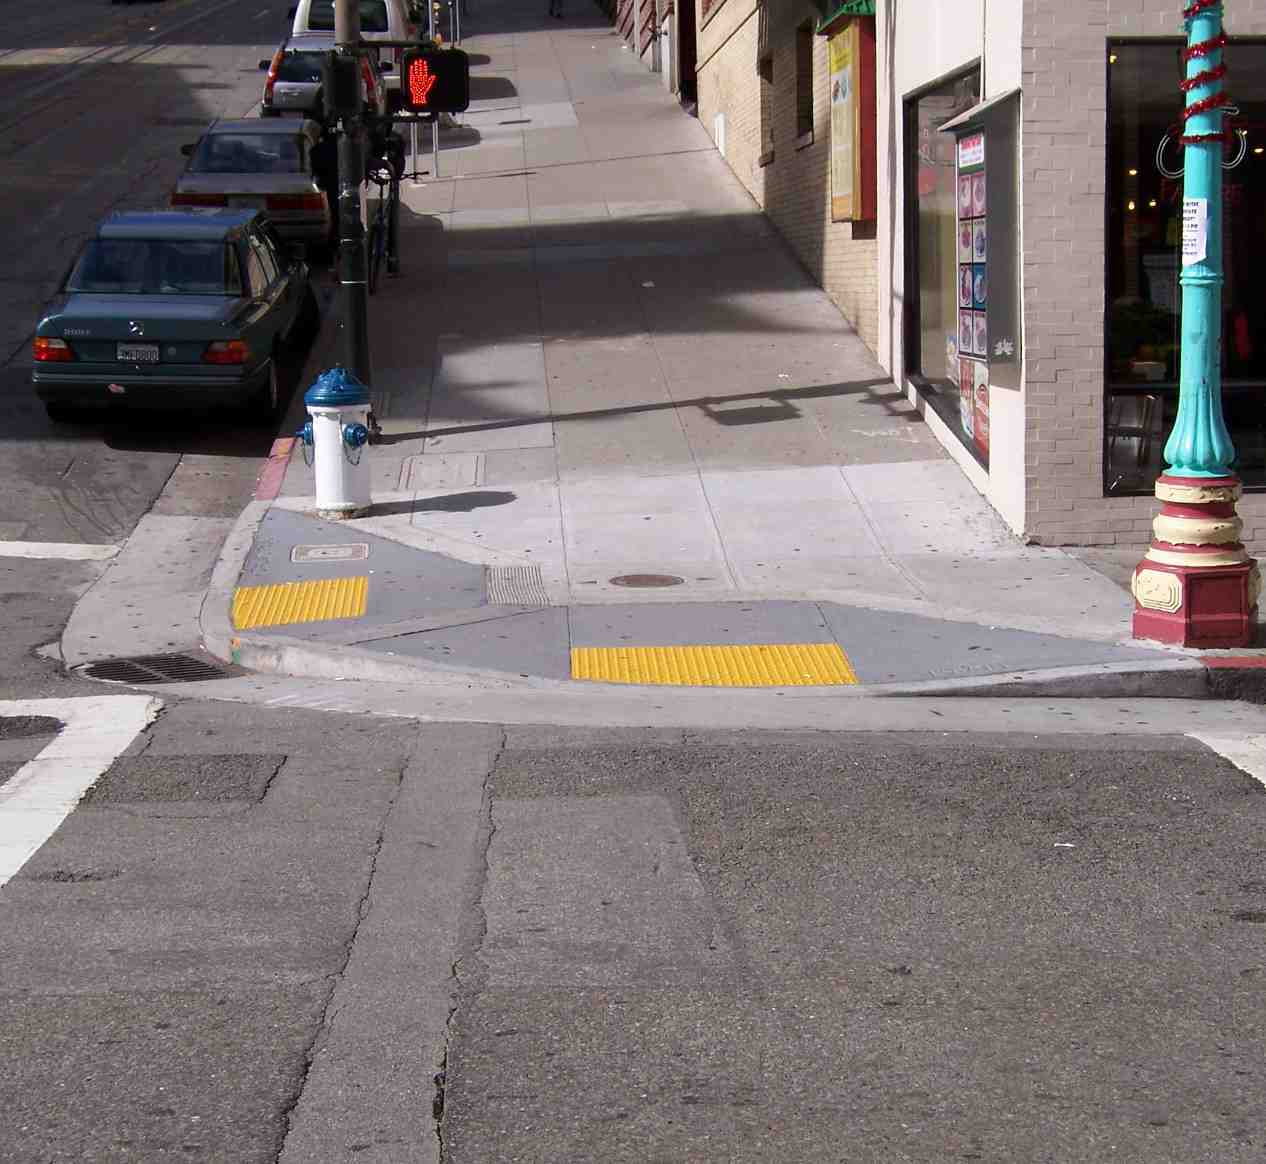ramp: (479, 583, 969, 763), (185, 556, 407, 689)
